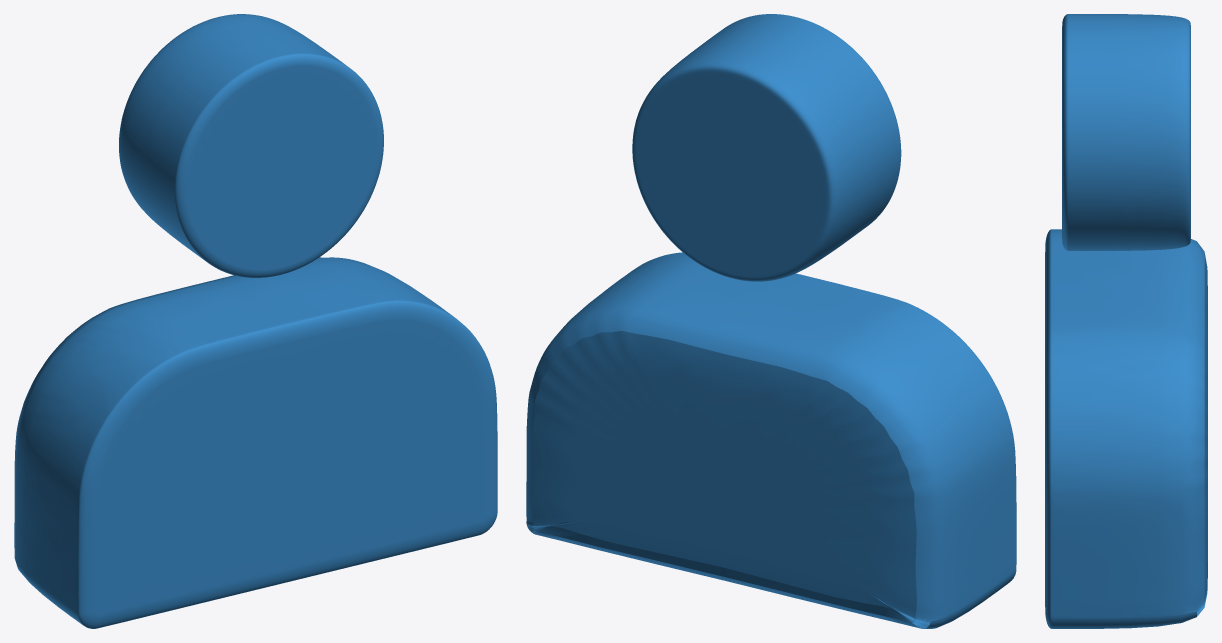
The picture shows the model from 3 angles, left to right: view 1: azimuth 30°, elevation 25°; view 2: azimuth 150°, elevation 25°; view 3: azimuth 270°, elevation 25°; orthographic projection. The views are drawn at different scales.
Visible parts, largest first — view 1: Cube.107, Cylinder.011; view 2: Cube.107, Cylinder.011; view 3: Cube.107, Cylinder.011.
Part boxes in pixels (x1,y1,x2,y2): Cube.107: (14, 257, 497, 628); Cylinder.011: (119, 14, 383, 277); Cube.107: (526, 252, 1016, 628); Cylinder.011: (632, 14, 901, 281); Cube.107: (1045, 229, 1207, 628); Cylinder.011: (1062, 14, 1190, 250).
Bounding box in the file's own units: 3.82 × 4.52 × 1.3.
